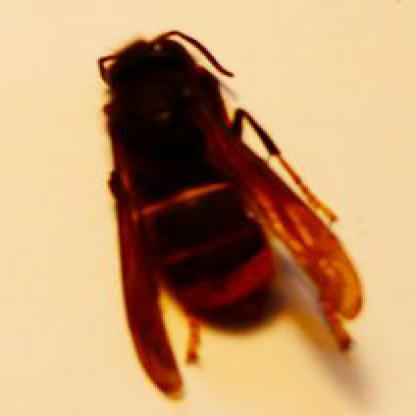Asian Hornet: (89, 26, 367, 396)
